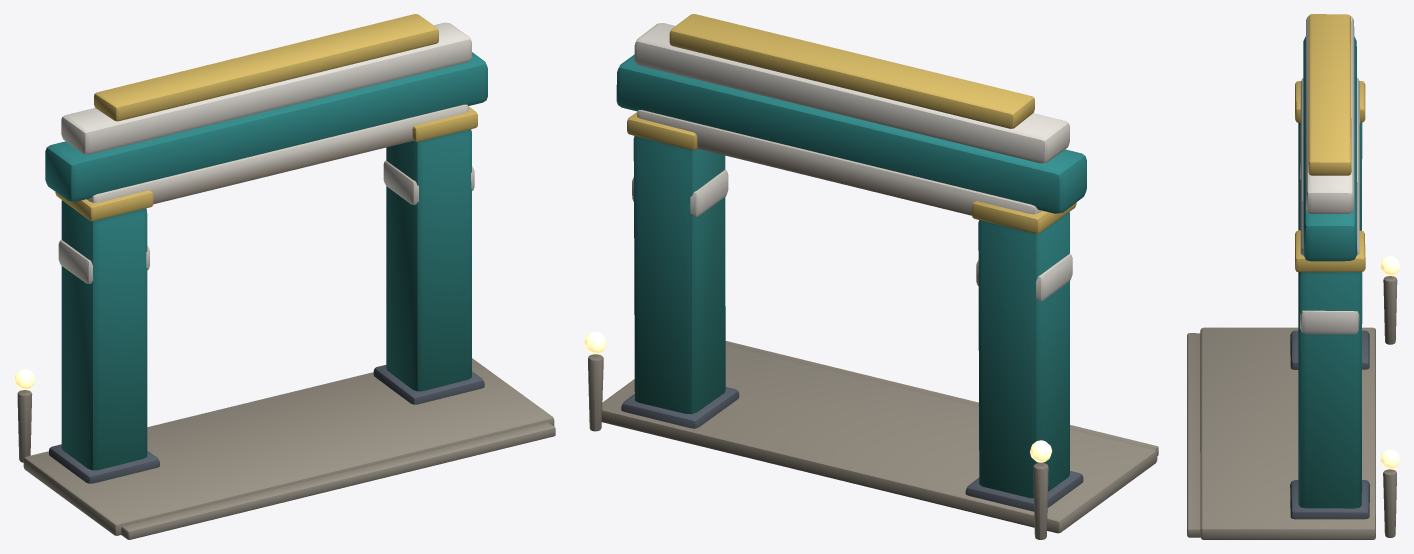
The picture shows the model from 3 angles, left to right: view 1: azimuth 30°, elevation 25°; view 2: azimuth 150°, elevation 25°; view 3: azimuth 270°, elevation 25°; orthographic projection. The views are drawn at different scales.
Parts seen in each view (by area): view 1: gate_eb657e6b; view 2: gate_eb657e6b; view 3: gate_eb657e6b.
Boxes of the visible parts, <box> form: gate_eb657e6b: <box>14,14,555,539</box>; gate_eb657e6b: <box>584,14,1158,539</box>; gate_eb657e6b: <box>1187,14,1399,539</box>.
Bounding box in the file's own units: 5.73 × 4.66 × 2.54.
